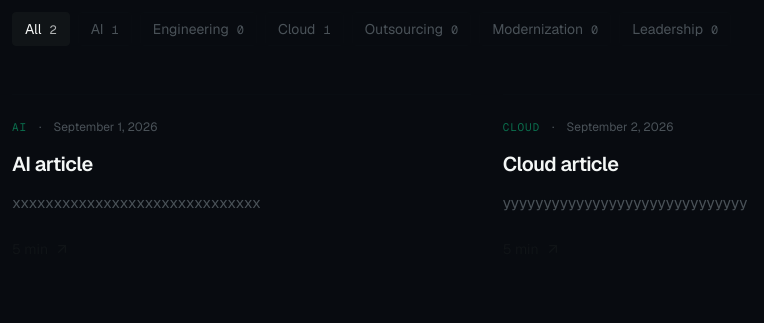
Test case: insights browser › filters by category, shows counts, and offers an empty state
Step 1. Click the button "AI1" → point(105, 29), box [78,12,132,46]
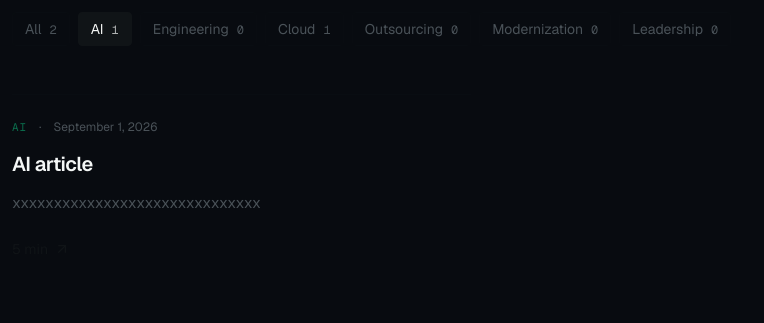
Expected: the link "AI article" is shown, [12,151,93,177]
Now the link "Cloud article" is gone
Step 2. Click the button "Leadership0" → point(675, 29), box [619,12,731,46]
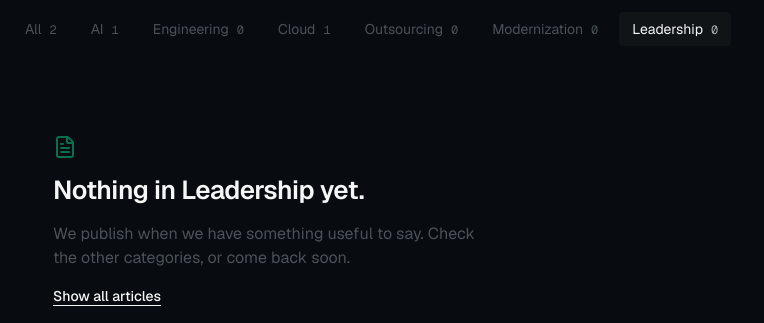
Now the text "Nothing in Leadership yet." is shown, box [53,175,364,206]
Step 3. Click the button "Show all articles" → point(107, 296), box [53,286,161,306]
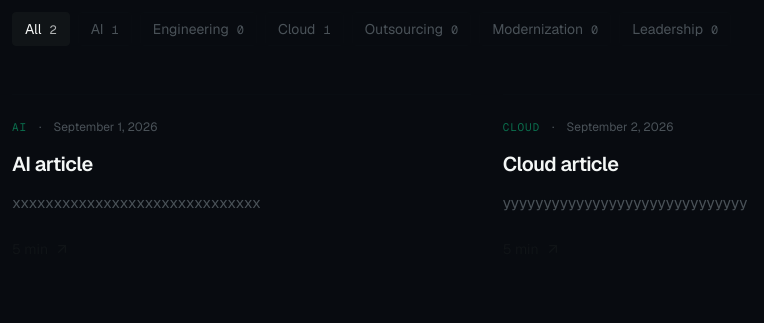
Now the link "Cloud article" is shown, box [503,151,618,177]
